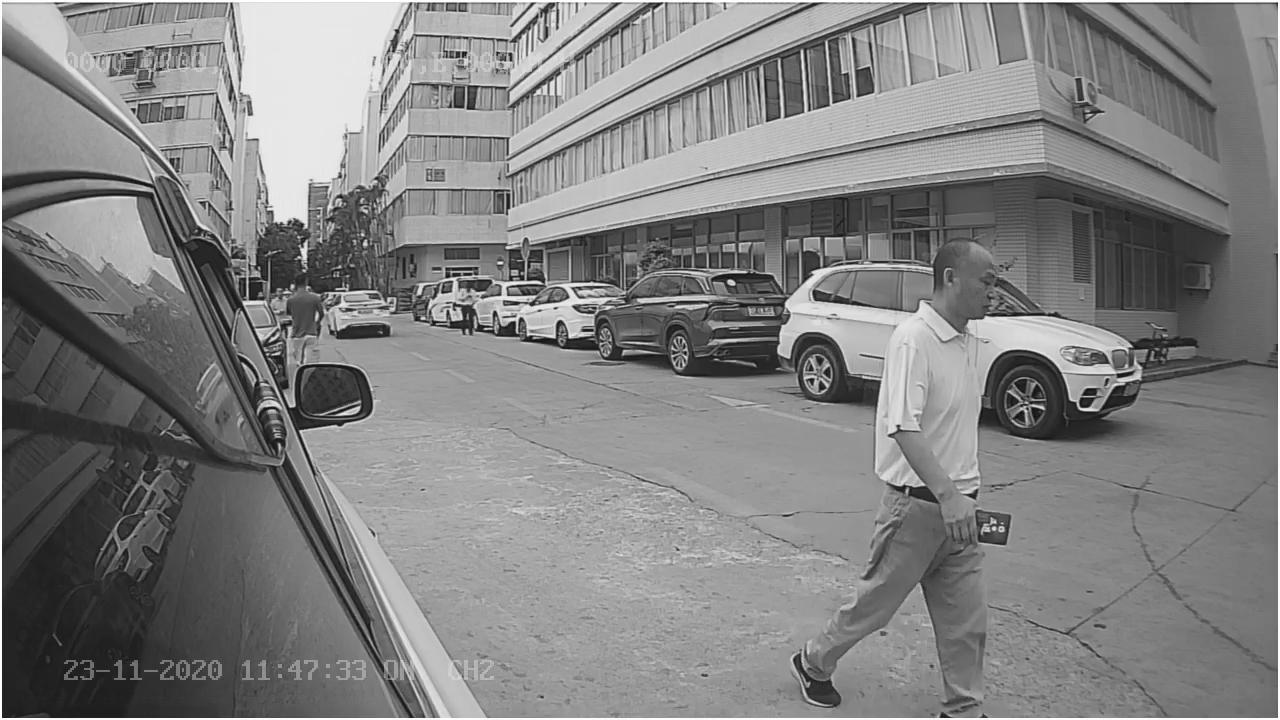person: (791, 208, 1020, 572)
